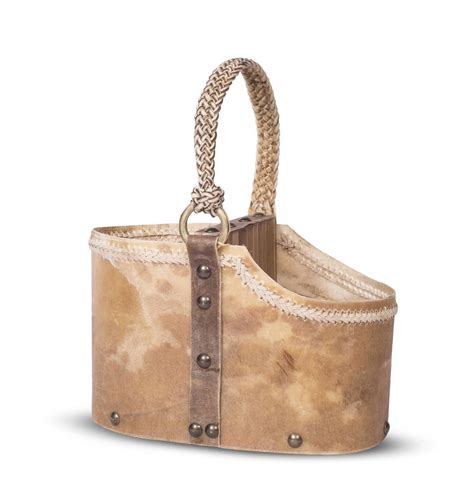cuero: (89, 55, 396, 456)
